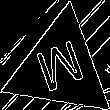M_S: (31, 35, 89, 99)
